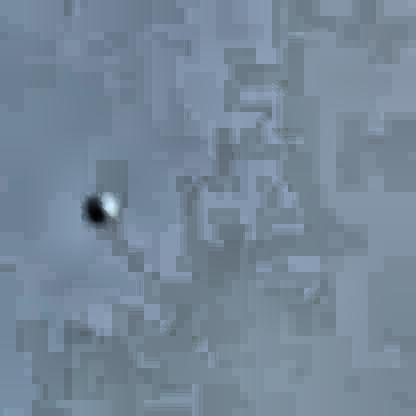golfball: (84, 185, 114, 221)
